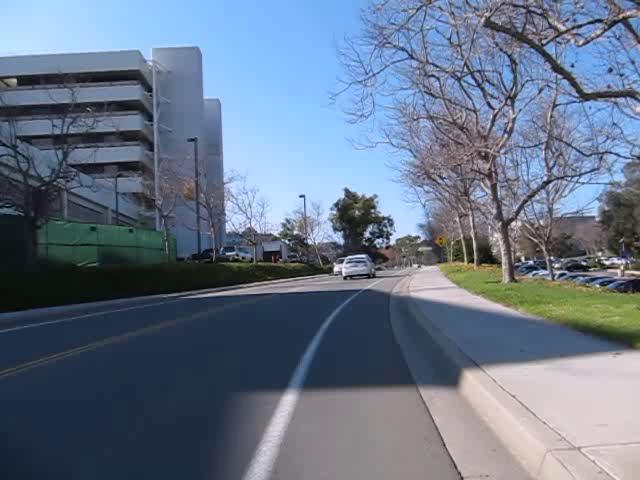signalAhead: (432, 233, 448, 248)
